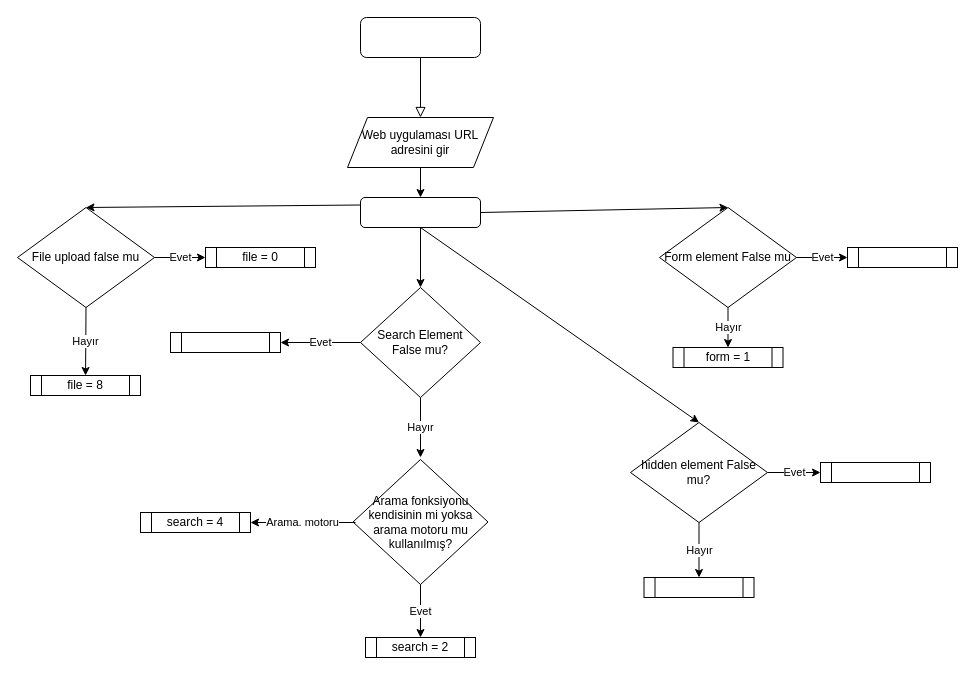
Image size: 975x675. Some labels were removed from this diagram. Each missing label, with the centre of its shape:
form = 0: point 902,257
hidden = 0: point 875,472
hidden = 1: point 698,587
input-vector.py çalıştır: point 420,37
search = 0: point 225,342
Çıktıları değerlendir.: point 420,212
